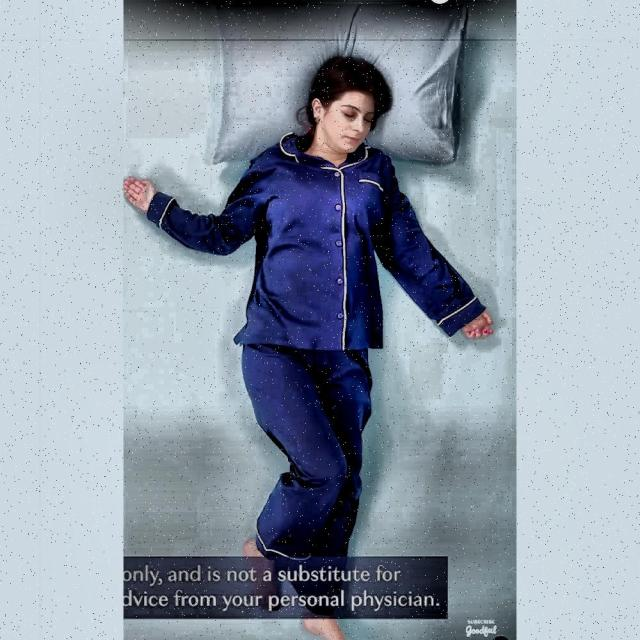Supine: (124, 56, 494, 561)
